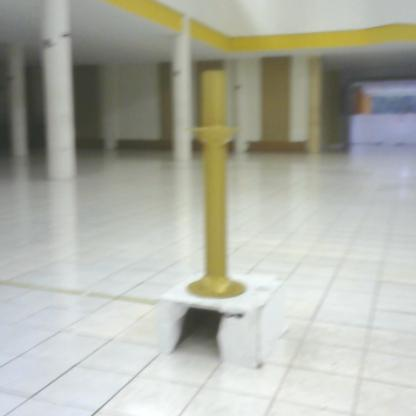pole: (185, 68, 253, 303)
